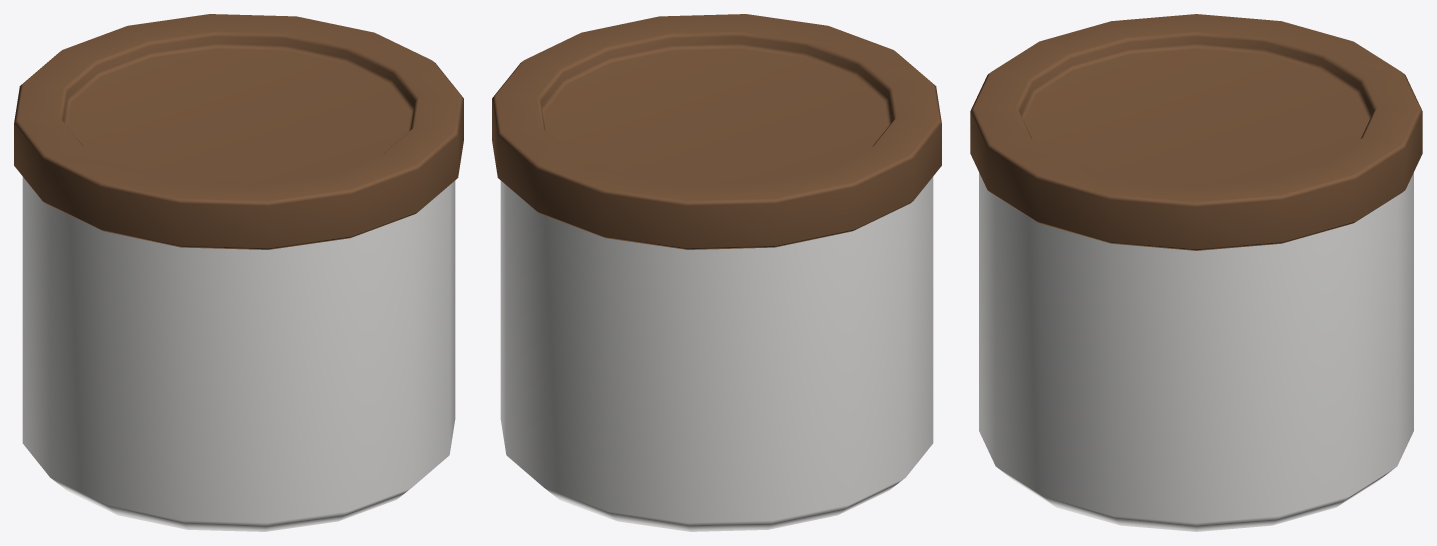
File: Jar_10.glb
3 renders of one model, left to right at view 1: azimuth 30°, elevation 25°; view 2: azimuth 150°, elevation 25°; view 3: azimuth 270°, elevation 25°, orthographic.
Parts seen in each view (by area): view 1: Jar_10; view 2: Jar_10; view 3: Jar_10.
Boxes of the visible parts, bbox=[...] form: Jar_10: bbox=[14, 14, 463, 531]; Jar_10: bbox=[492, 14, 941, 531]; Jar_10: bbox=[970, 14, 1422, 531].
Bounding box in the file's own units: 0.2474 × 0.2053 × 0.2474.
2 materials, 2 textured.
